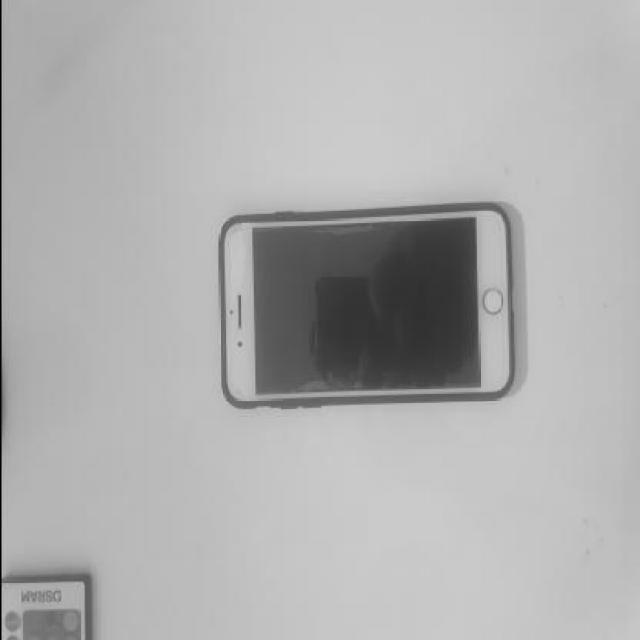fake: (214, 204, 516, 404)
